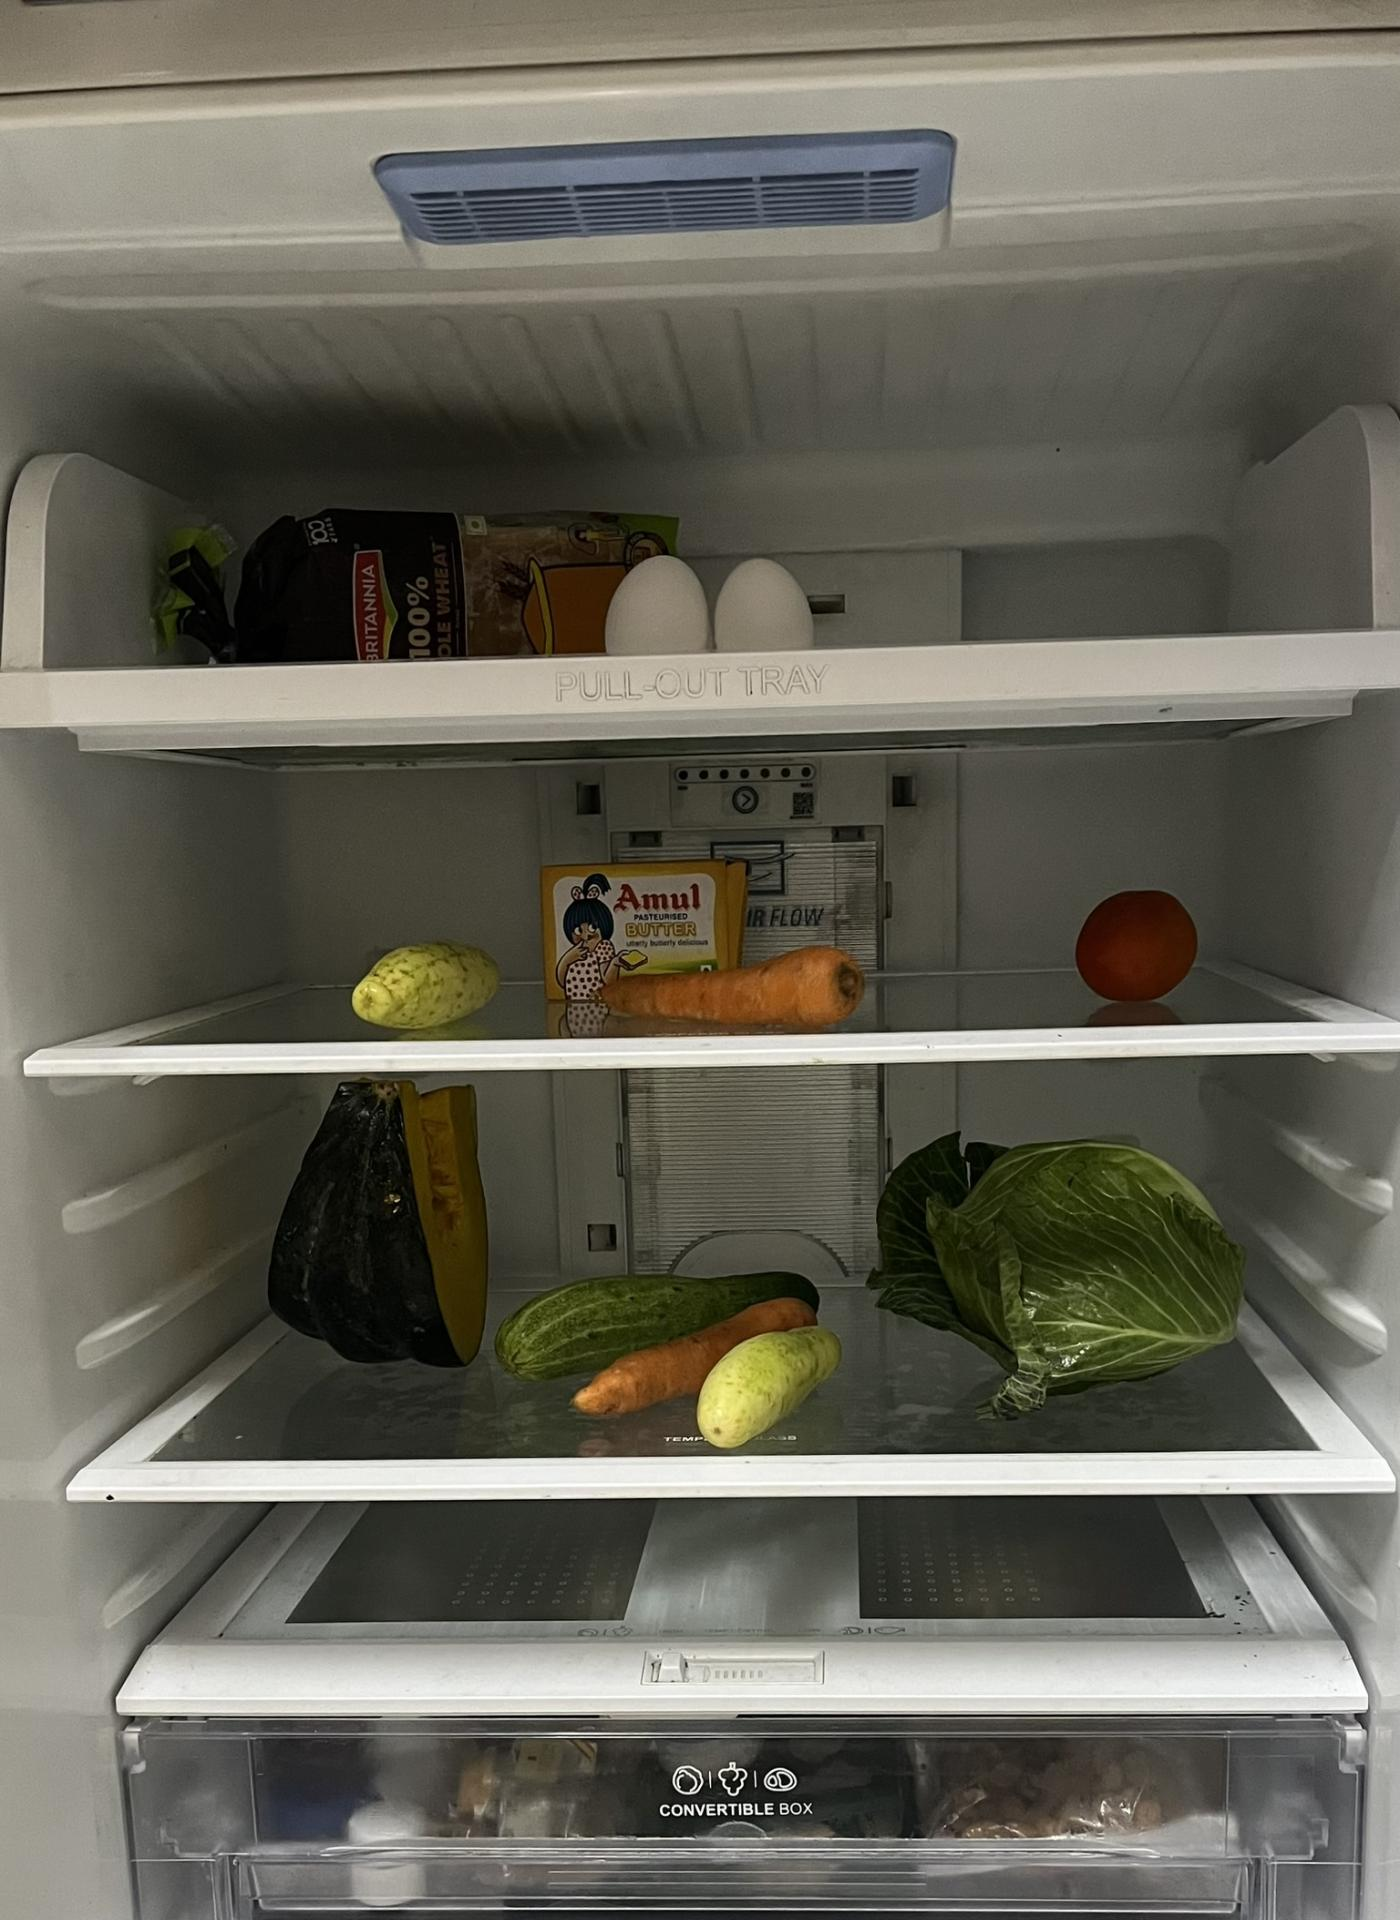bread: (176, 499, 668, 659)
butter: (528, 863, 750, 987)
cabbage: (878, 1125, 1255, 1403)
carrots: (574, 1263, 814, 1428), (607, 953, 862, 1029)
cucumber: (501, 1266, 823, 1382), (702, 1309, 829, 1444), (349, 938, 504, 1029)
egg: (598, 550, 711, 659), (717, 553, 823, 653)
pumpkin: (261, 1078, 507, 1377)
tomato: (1066, 884, 1203, 1012)
